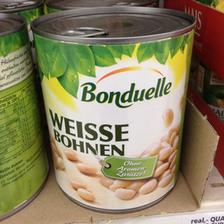Bohnen: (27, 5, 198, 211)
